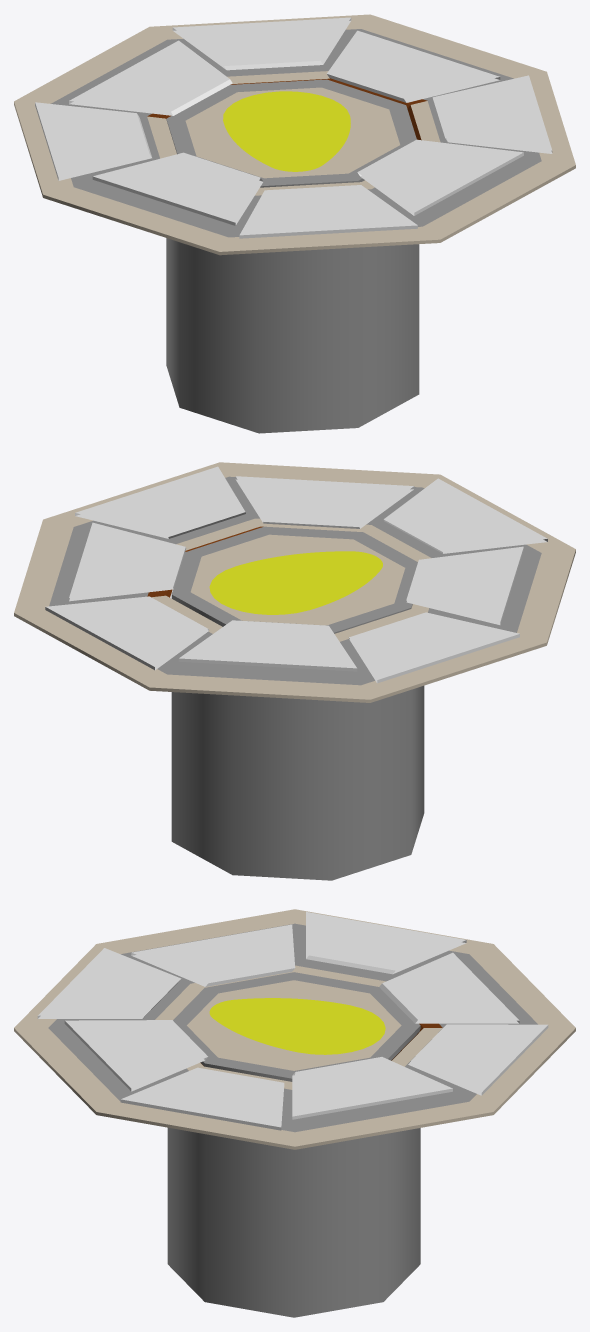
The model's file is SocleOeufBase.FBX.
3 views of the same model, one above another, from view 1: azimuth 30°, elevation 25°; view 2: azimuth 150°, elevation 25°; view 3: azimuth 270°, elevation 25° (orthographic). The views are drawn at different scales.
Parts seen in each view (by area): view 1: Cylinder156, Cylinder158, Cylinder157, Egg004; view 2: Cylinder156, Cylinder158, Cylinder157, Egg004; view 3: Cylinder156, Cylinder158, Cylinder157, Egg004.
Boxes of the visible parts, x1,y1,x2,y2 form: Cylinder156: (166, 79, 419, 433); Cylinder158: (35, 17, 552, 238); Cylinder157: (14, 14, 575, 255); Egg004: (223, 91, 350, 171); Cylinder156: (171, 526, 424, 880); Cylinder158: (45, 466, 547, 683); Cylinder157: (14, 462, 575, 702); Egg004: (209, 551, 382, 614); Cylinder156: (167, 972, 420, 1317); Cylinder158: (37, 912, 548, 1130); Cylinder157: (14, 909, 575, 1149); Egg004: (209, 998, 385, 1054).
Bounding box in the file's own units: 126 × 60.59 × 126.
